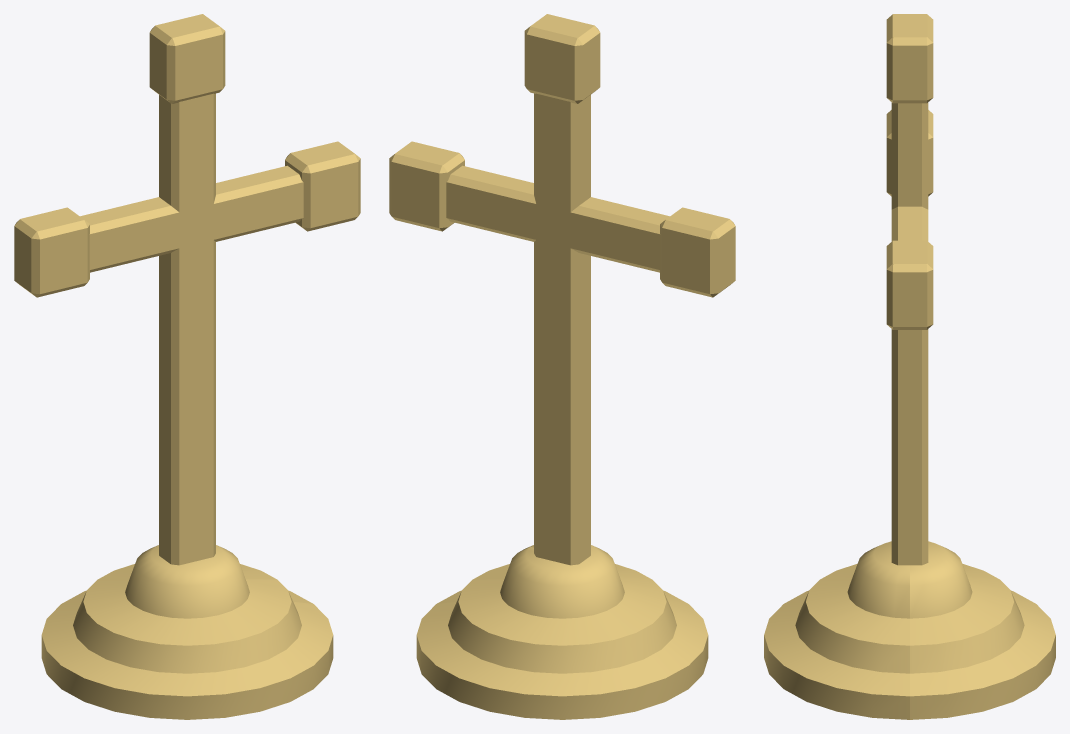
File: wedding-and-chapel-kit-altar-cross-172b02ec__39381.glb
3 views of the same model, side by side, from view 1: azimuth 30°, elevation 25°; view 2: azimuth 150°, elevation 25°; view 3: azimuth 270°, elevation 25° (orthographic).
Parts seen in each view (by area): view 1: altar-cross; view 2: altar-cross; view 3: altar-cross.
Boxes of the visible parts, box(x1,y1,x2,y2) form: altar-cross: box(14, 14, 360, 719); altar-cross: box(389, 14, 735, 719); altar-cross: box(764, 14, 1055, 719).
Bounding box in the file's own units: 0.365 × 0.67 × 0.28.
